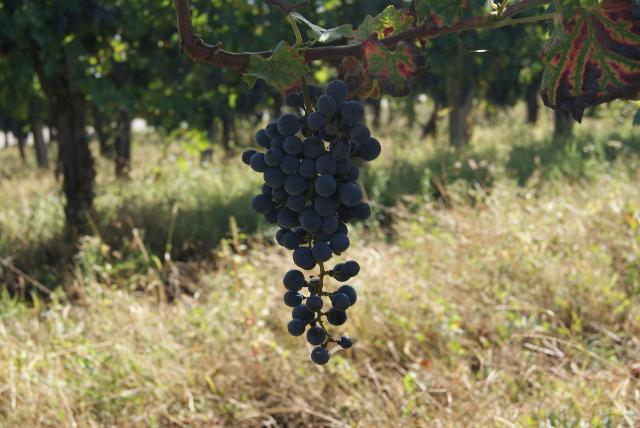grapes: (242, 81, 380, 365)
